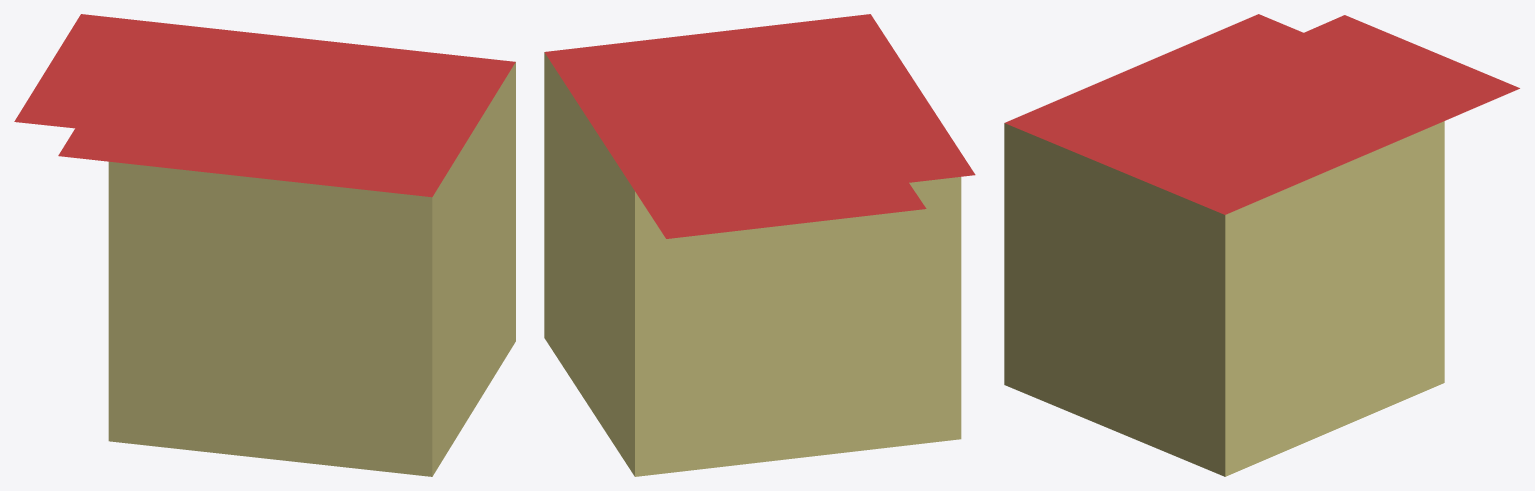
The picture shows the model from 3 angles, left to right: view 1: azimuth 30°, elevation 25°; view 2: azimuth 150°, elevation 25°; view 3: azimuth 270°, elevation 25°; orthographic projection. The views are drawn at different scales.
Bounding box in the file's own units: 8.85 × 9.6 × 5.38.
